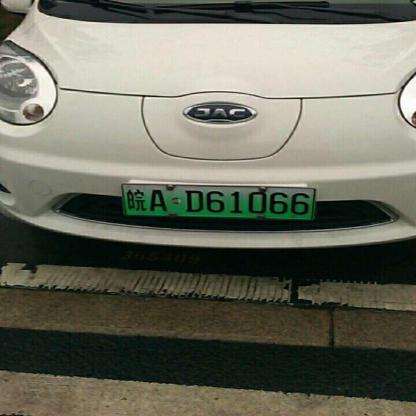lp: (122, 182, 314, 219)
